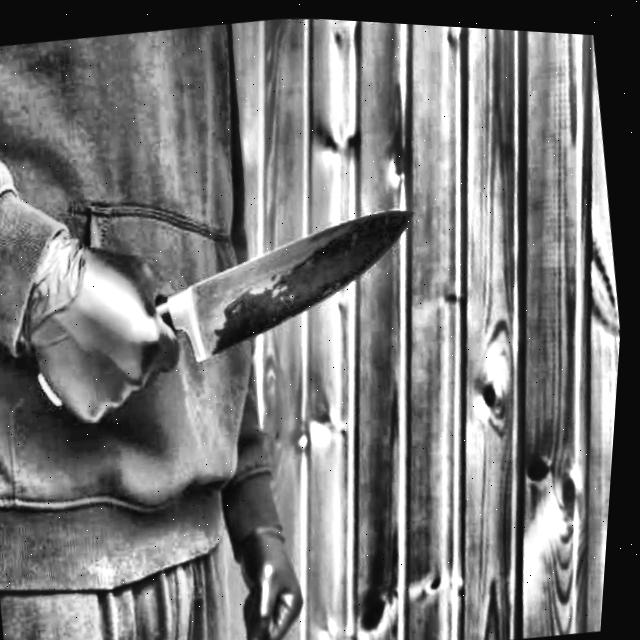pisau: (14, 191, 433, 429)
